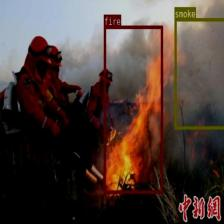fire: (104, 25, 162, 193)
smoke: (174, 17, 224, 129)
